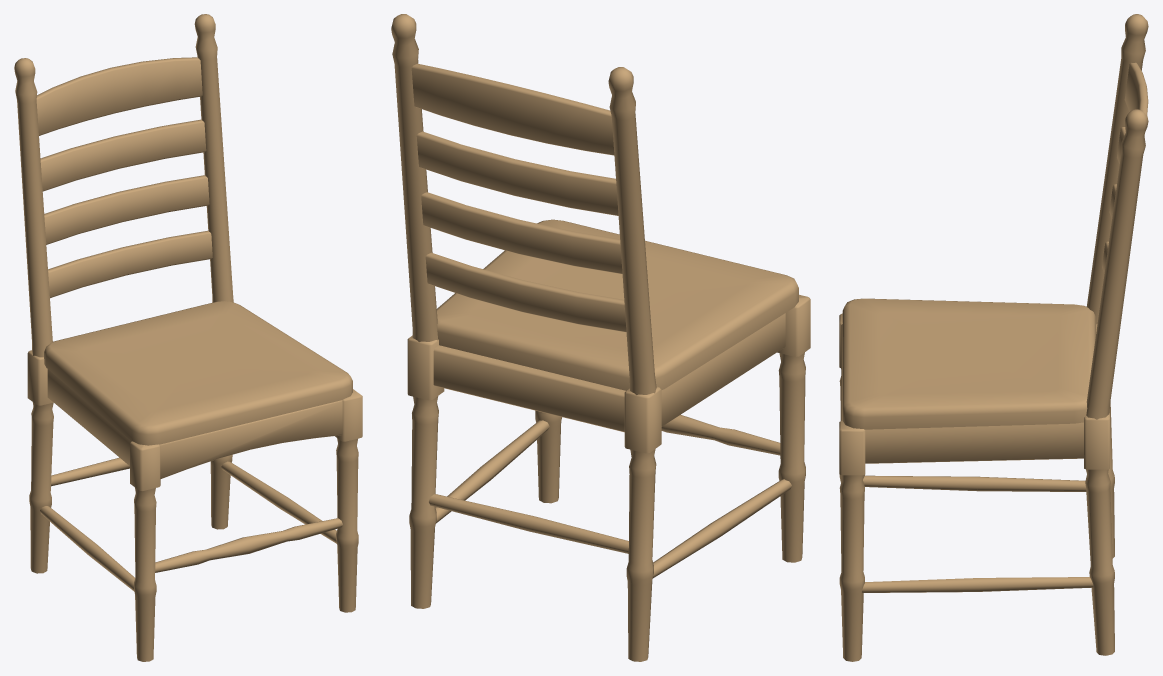
The model's file is Kit_LadderChair.fbx.
3 views of the same model, side by side, from view 1: azimuth 30°, elevation 25°; view 2: azimuth 150°, elevation 25°; view 3: azimuth 270°, elevation 25° (orthographic). The views are drawn at different scales.
Visible parts, largest first — view 1: Kit_LadderChair_LOD0; view 2: Kit_LadderChair_LOD0; view 3: Kit_LadderChair_LOD0.
Boxes of the visible parts, <box> form: Kit_LadderChair_LOD0: <box>14,14,362,661</box>; Kit_LadderChair_LOD0: <box>391,14,810,661</box>; Kit_LadderChair_LOD0: <box>839,14,1148,661</box>.
Size of what is drawn, in the model's own units: 0.45 by 0.965 by 0.499.
